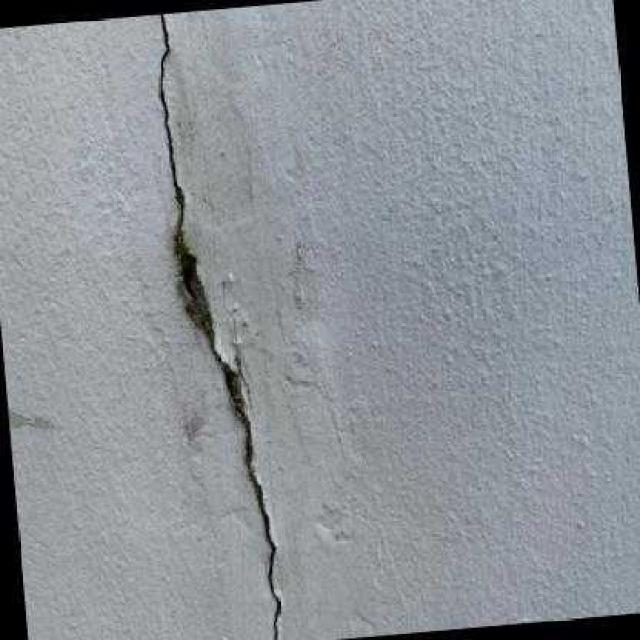D00: (157, 13, 183, 221), (260, 510, 280, 640)
